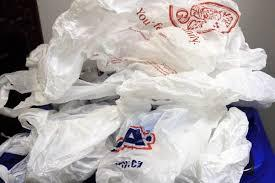Plastic bag: (1, 0, 275, 183)
